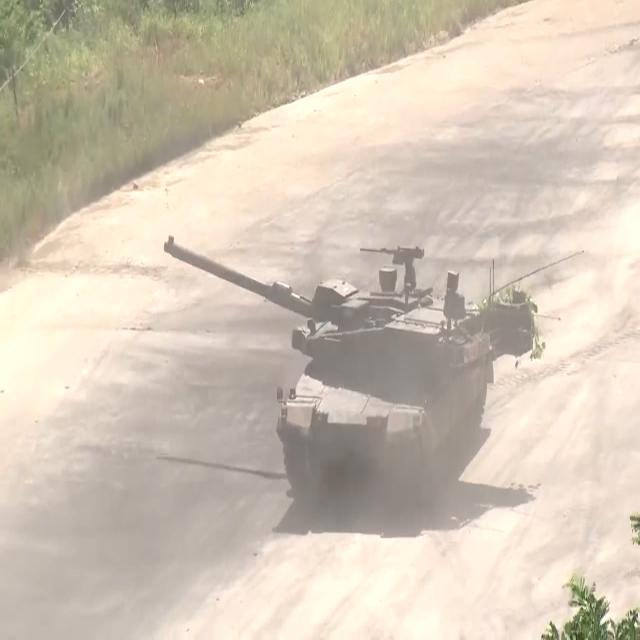korea tank: (162, 231, 542, 512)
